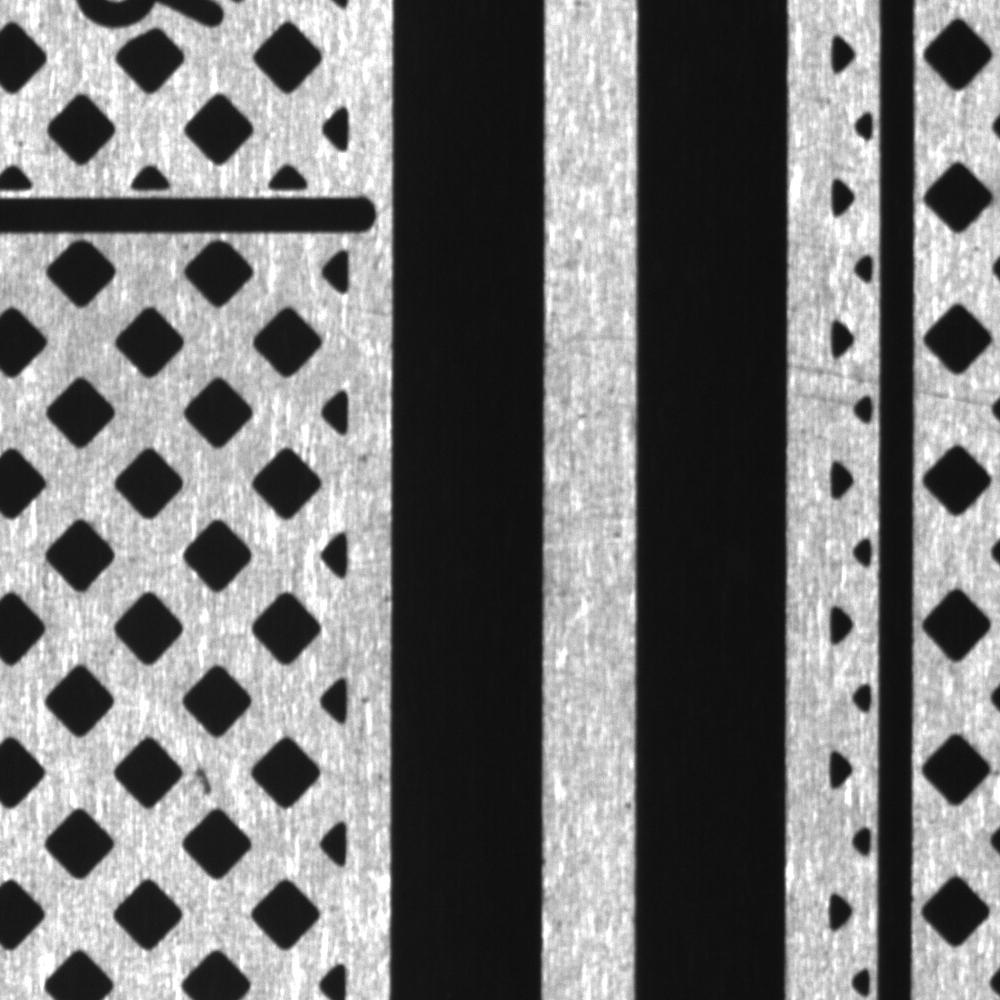Pinhole: (617, 784, 636, 821), (605, 520, 629, 546)
Scar: (544, 319, 636, 378), (786, 358, 876, 410), (916, 381, 1000, 410)
